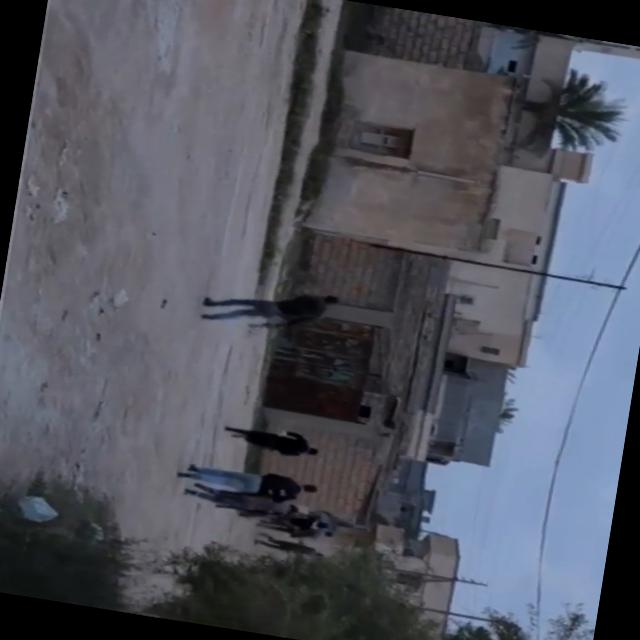long weapon: (244, 316, 305, 335)
